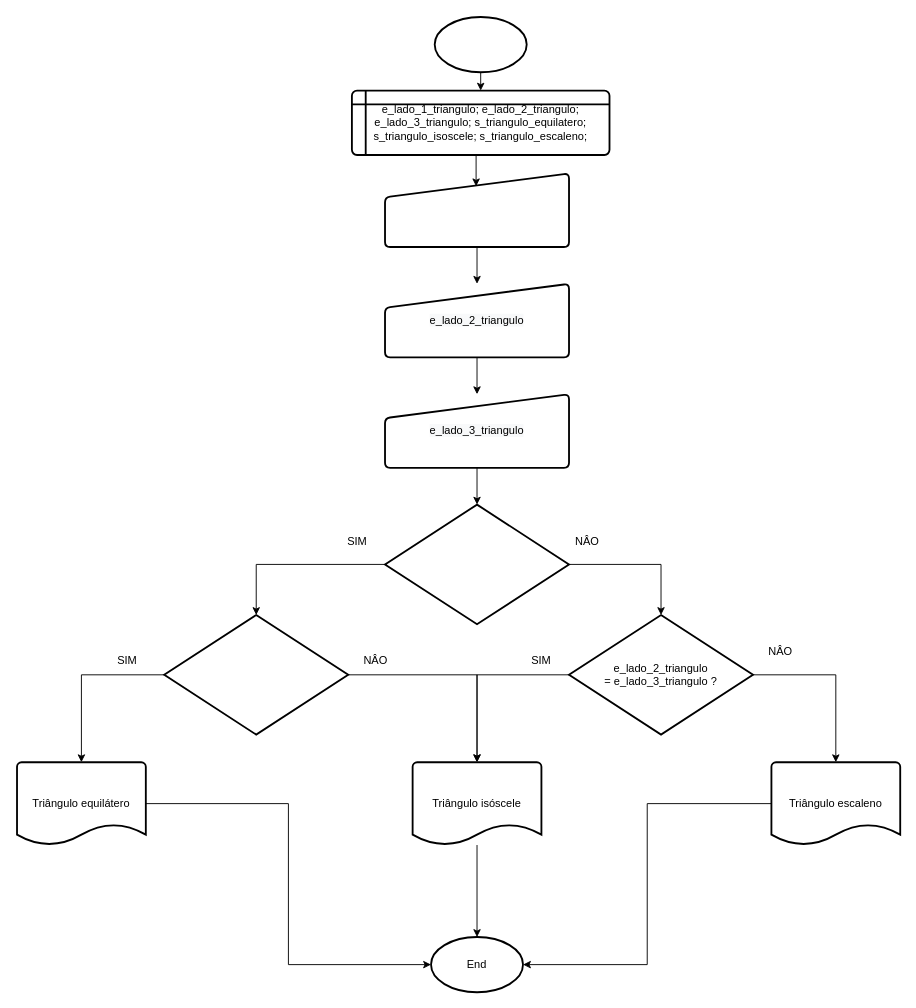
The diagram is 916 pixels wide and 1008 high, and some of its shapes have lost their labels. Each missing label, with the centre of its shape:
"e_lado_1_triangulo" goes at point 476,209.
"e_lado_1_triangulo = e_lado_2_triangulo ?" goes at point 476,564.
"e_lado_1_triangulo = e_lado_3_triangulo ?" goes at point 256,674.
"Start" goes at point 480,44.
